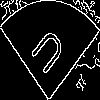U: (25, 25, 67, 84)
